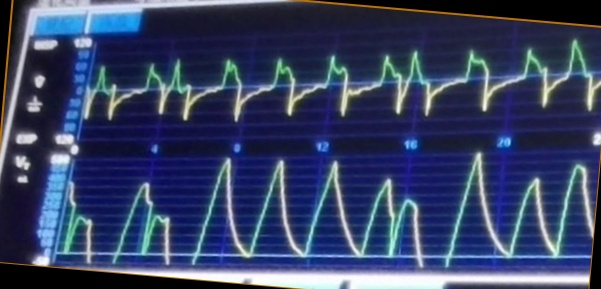Double_Triggering Flow: (83, 40, 601, 126)
Double_Triggering Volume: (62, 153, 591, 268)
